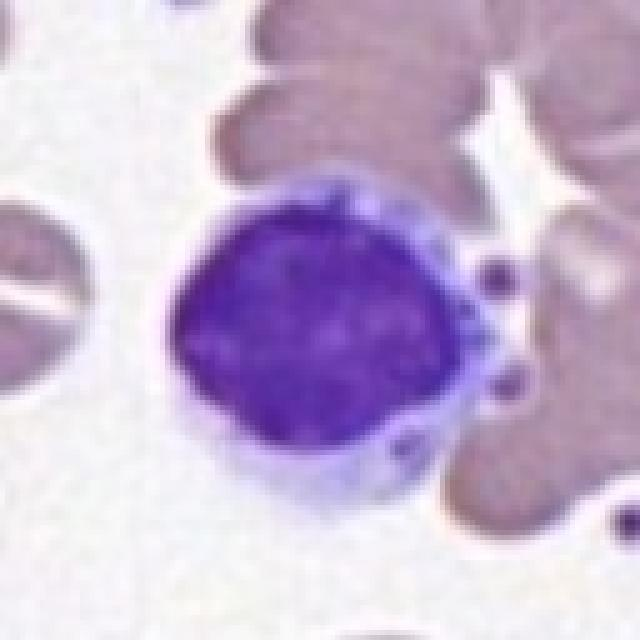lympho: (152, 155, 539, 529)
